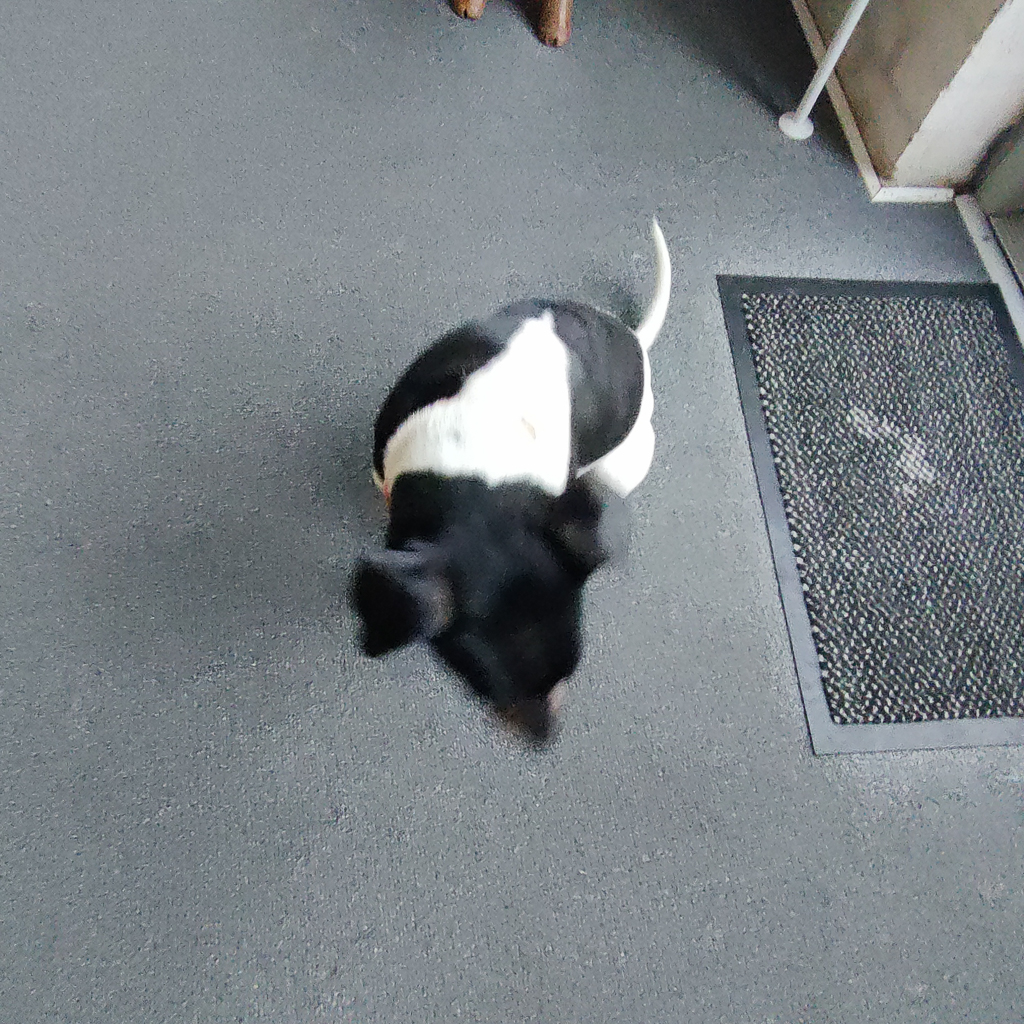Cattle: (430, 0, 587, 54)
Dog: (307, 188, 729, 787)
